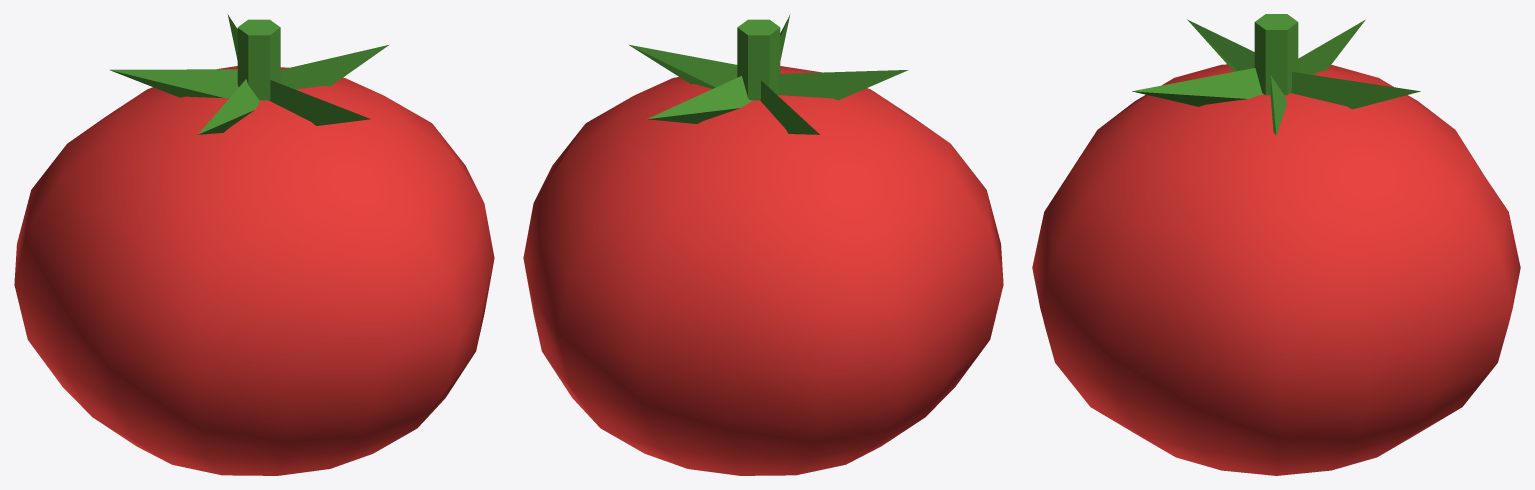
File: Domates_Model.fbx
The picture shows the model from 3 angles, left to right: view 1: azimuth 30°, elevation 25°; view 2: azimuth 150°, elevation 25°; view 3: azimuth 270°, elevation 25°; orthographic projection.
Visible parts, largest first — view 1: Domates_Model; view 2: Domates_Model; view 3: Domates_Model.
Boxes of the visible parts, x1=… form: Domates_Model: x1=14, y1=14, x2=494, y2=475; Domates_Model: x1=523, y1=14, x2=1003, y2=475; Domates_Model: x1=1032, y1=14, x2=1520, y2=475.
Bounding box in the file's own units: 27 × 26.07 × 27.
